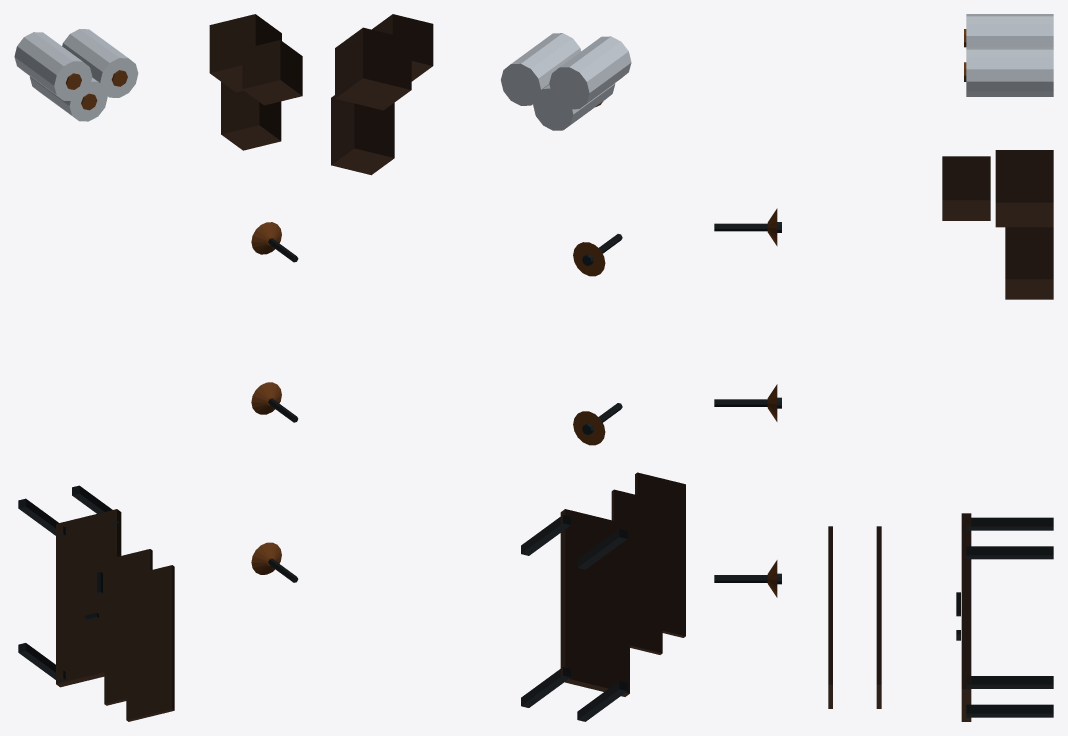
File: SM_BB_GeneratorAnnex_Props.obj
3 views of the same model, side by side, from view 1: azimuth 30°, elevation 25°; view 2: azimuth 150°, elevation 25°; view 3: azimuth 270°, elevation 25° (orthographic). The views are drawn at different scales.
Visible parts, largest first — view 1: SM_BB_GeneratorAnnex_Props; view 2: SM_BB_GeneratorAnnex_Props; view 3: SM_BB_GeneratorAnnex_Props.
Boxes of the visible parts, box(x1,y1,x2,y2) form: SM_BB_GeneratorAnnex_Props: box(14, 14, 302, 721); SM_BB_GeneratorAnnex_Props: box(331, 14, 685, 721); SM_BB_GeneratorAnnex_Props: box(714, 14, 1053, 721).
Size of the model in its own units: 320 by 775 by 350.
